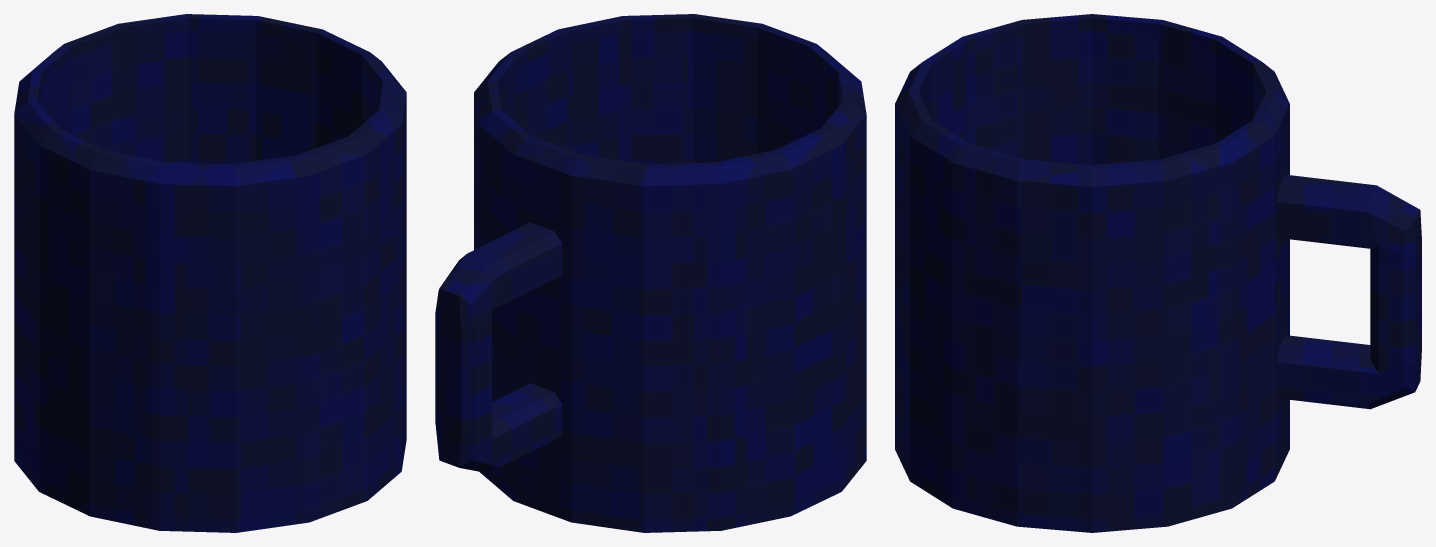
File: mug.fbx
3 renders of one model, left to right at view 1: azimuth 30°, elevation 25°; view 2: azimuth 150°, elevation 25°; view 3: azimuth 270°, elevation 25°, orthographic.
Parts seen in each view (by area): view 1: Mug; view 2: Mug; view 3: Mug.
Boxes of the visible parts, <box> form: Mug: <box>14,14,406,532</box>; Mug: <box>435,14,866,532</box>; Mug: <box>895,14,1421,532</box>.
Size of the model in its own units: 200 by 200 by 267.
1 material, 1 textured.
